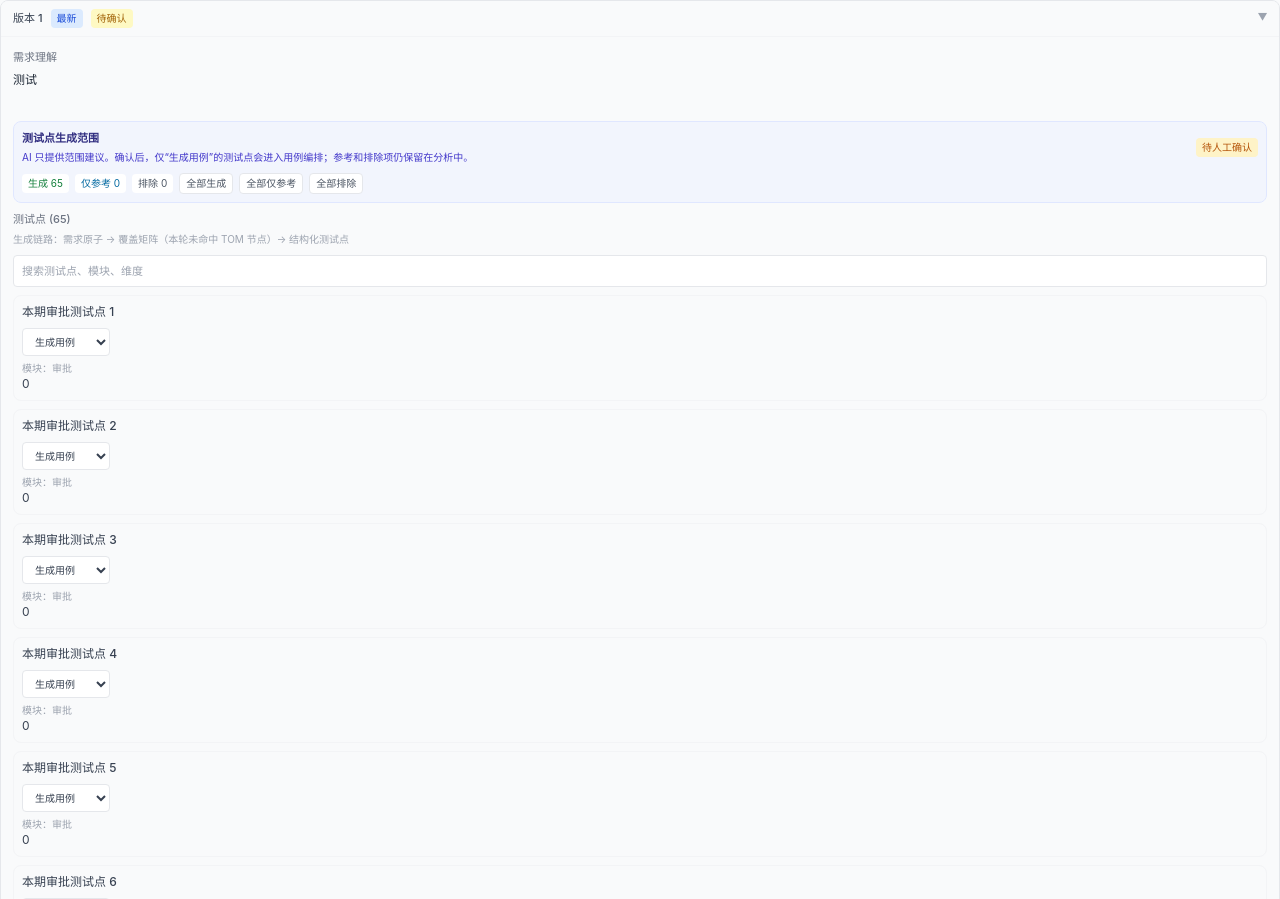
Test: AnalysisPanel - 测试点标签 › 大量测试点分页渲染并支持按筛选结果批量排除
Expected: the text "仅供背景的历史报表" is not shown
In the field with placeholder "搜索测试点、模块、维度": (640, 271) [13,255,1267,287], type "历史报表"
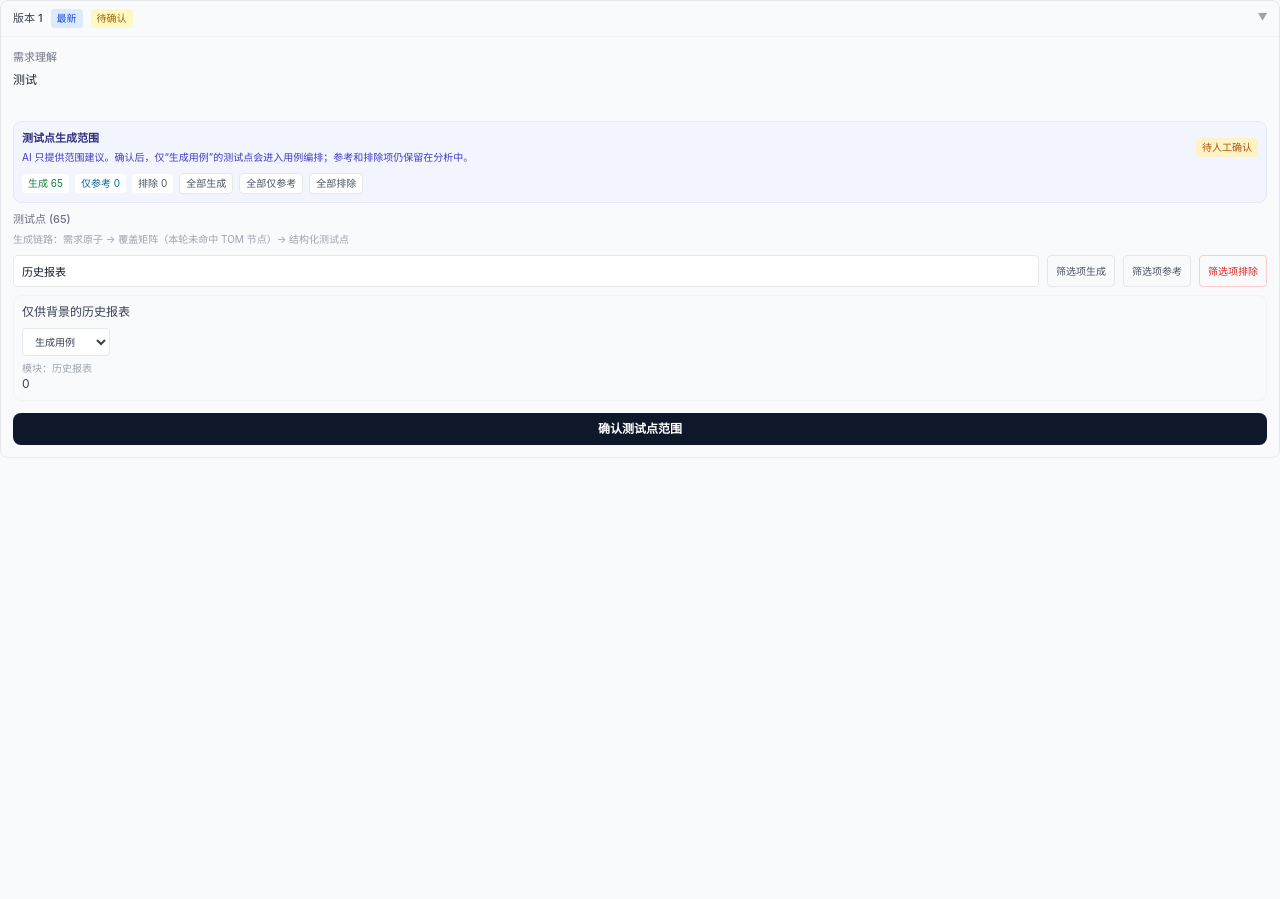
Expected: the text "仅供背景的历史报表" is shown, [22,304,130,320]
Click the button "筛选项排除": (1233, 271) [1199,255,1267,287]
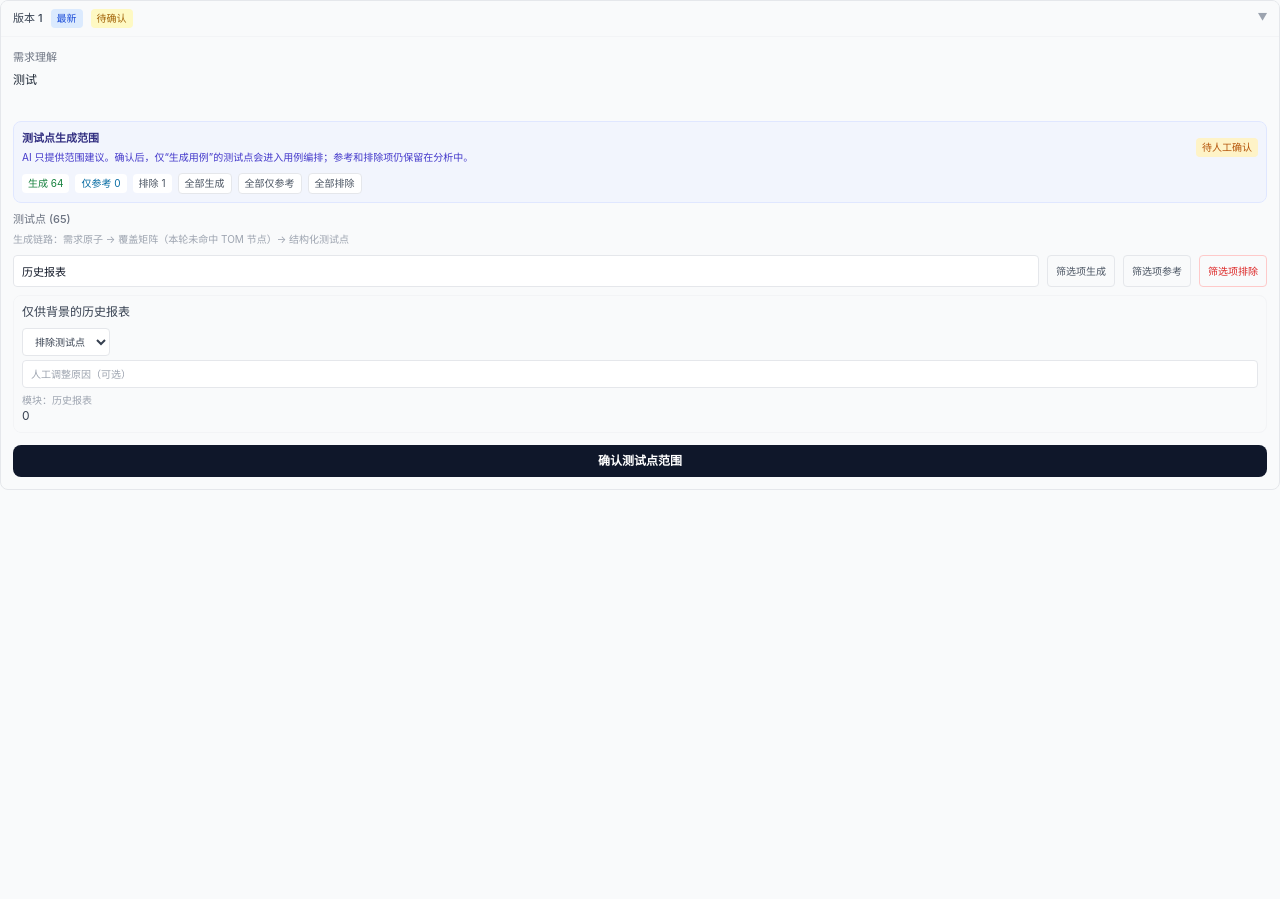
Expected: the dropdown named "测试点范围-仅供背景的历史报表" shows "排除测试点", [22,328,110,356]
